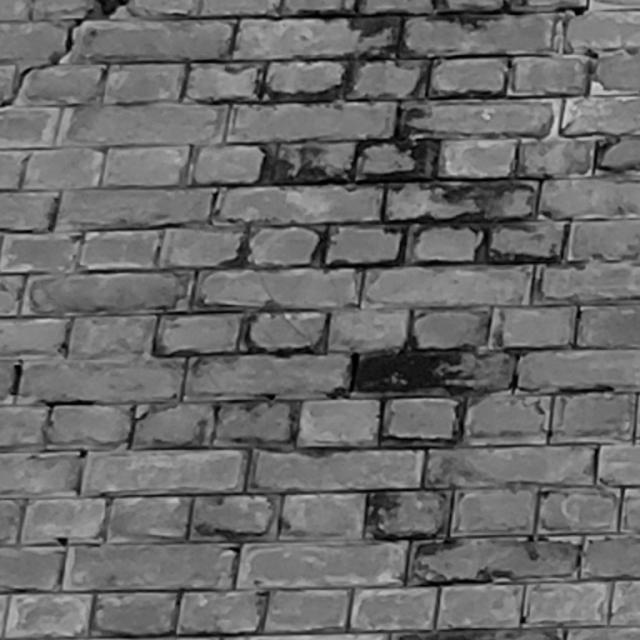crack: (1, 9, 94, 110)
